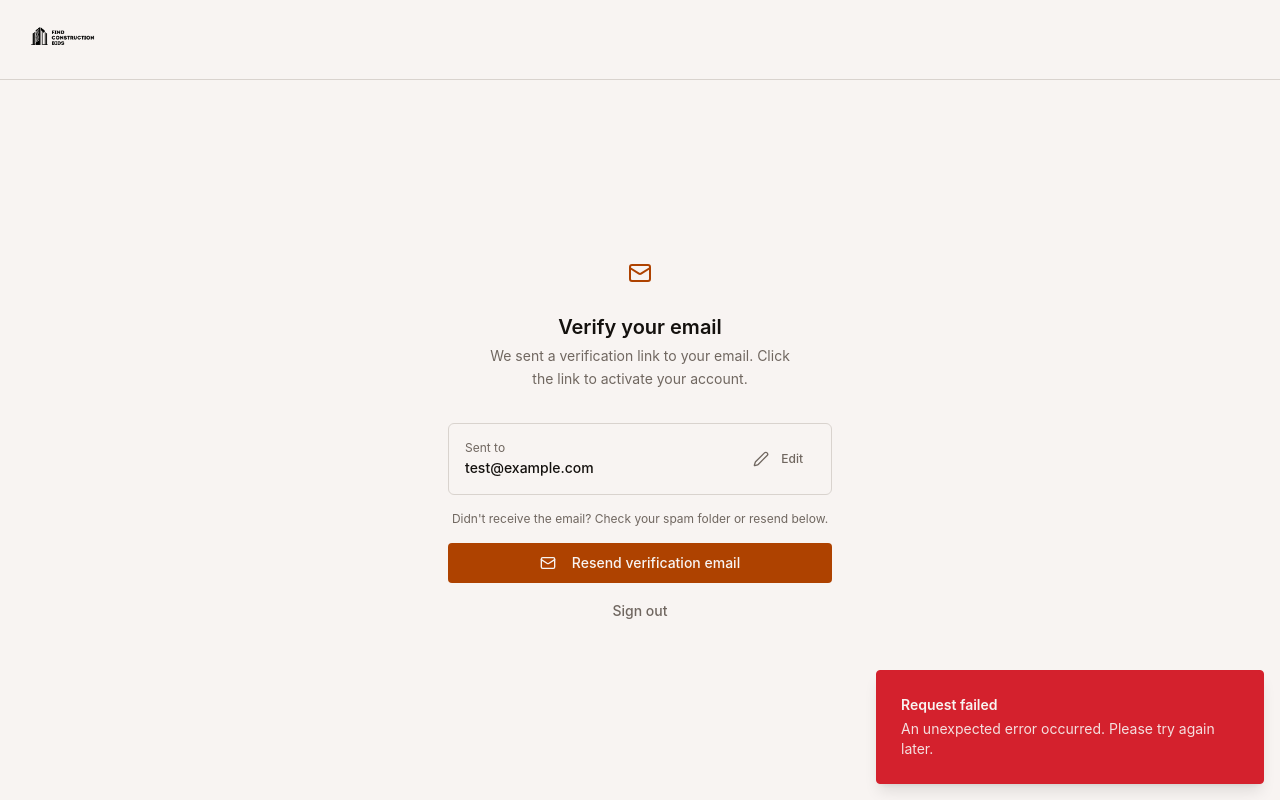
EmailVerificationPendingPage › edit email flow › shows the edit email form after clicking "Edit"
Click the button with test id "button-edit-email" at (778, 459), box [741, 441, 815, 477]
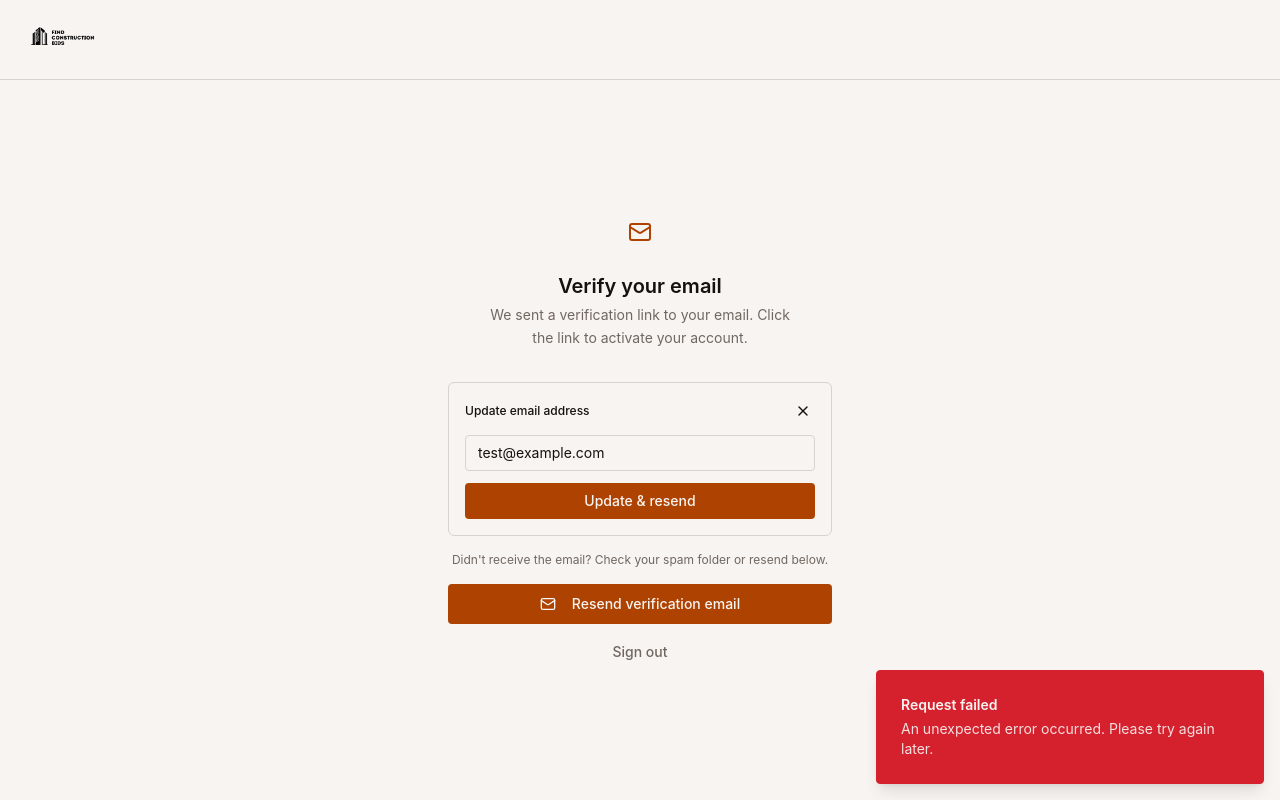
Now the field with test id "input-new-email" is shown, box [465, 435, 815, 471]
